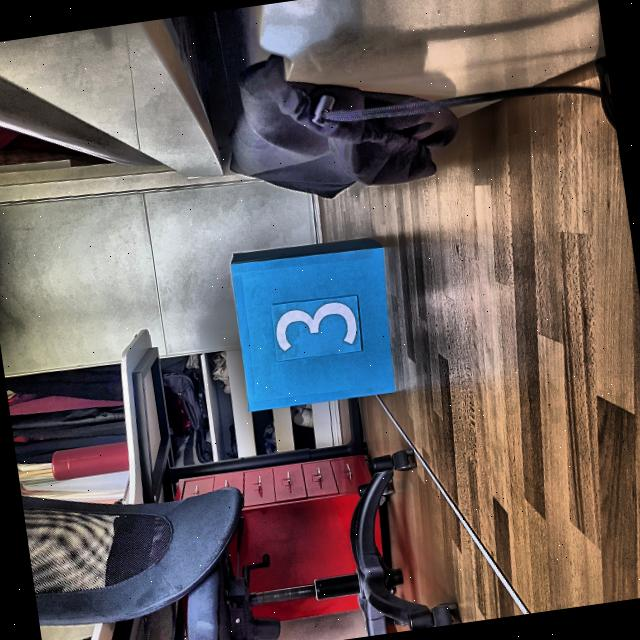blue box: (228, 233, 400, 415)
three: (272, 297, 362, 358)
